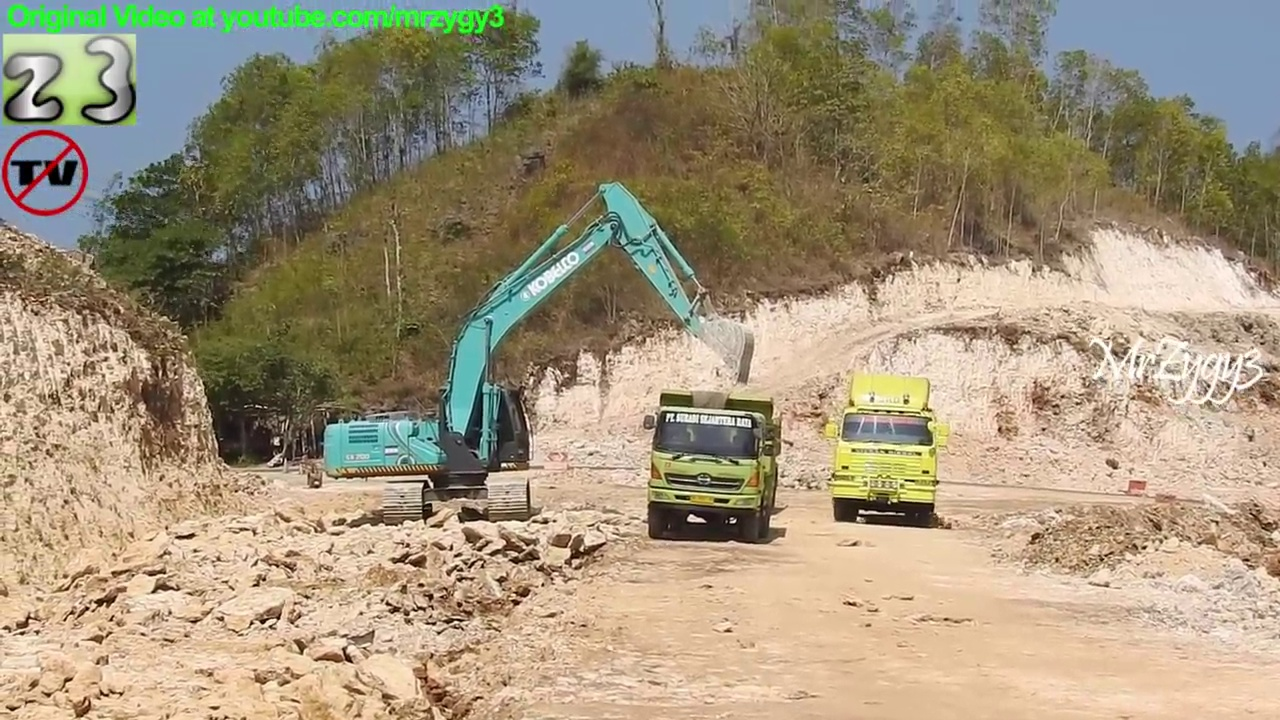excavator: (319, 176, 758, 526)
truck: (641, 386, 785, 545), (822, 368, 953, 531)
